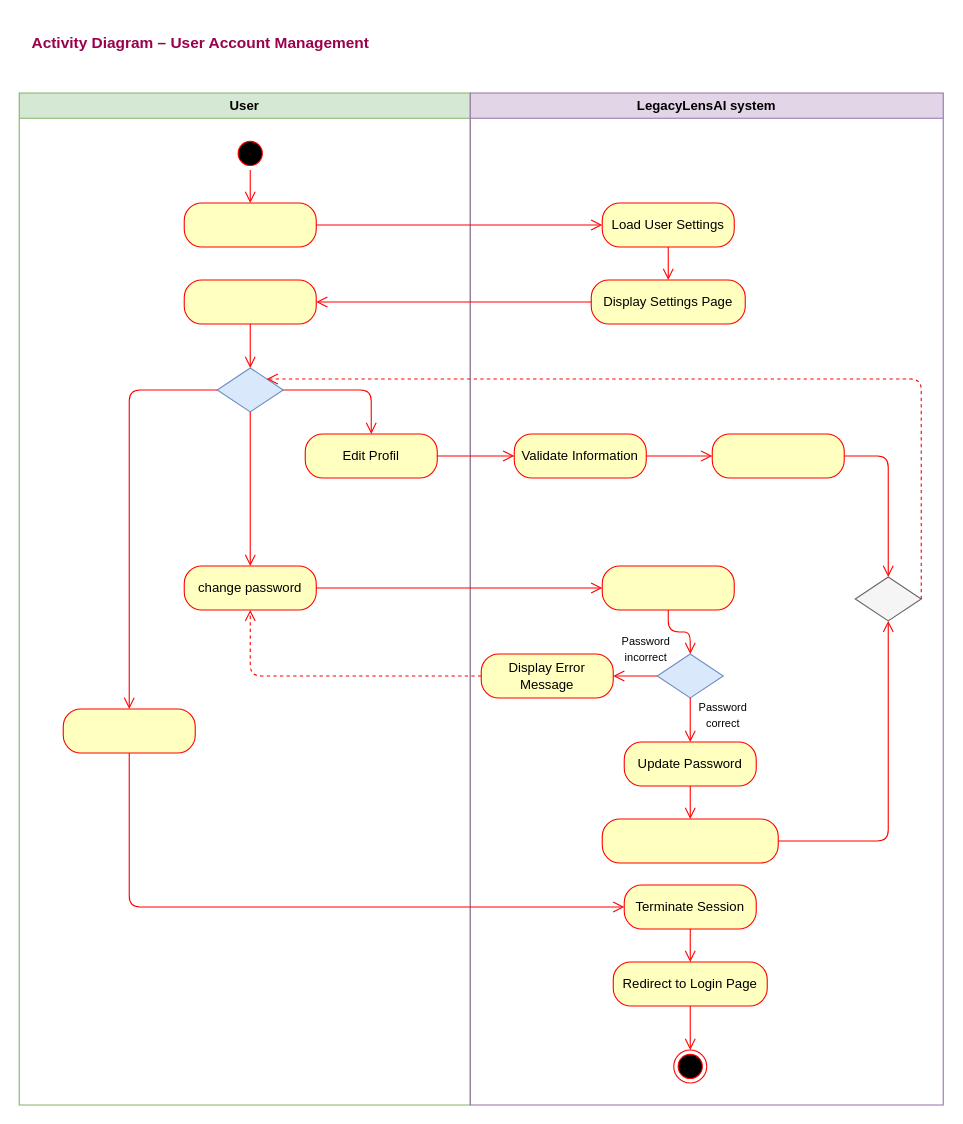
This 963x1124 diagram has some shape labels left out. The shapes that lost their labels are listed below. From the top down, each one's centre as x and y in pixels, then its label:
the point at 249,224: open Settings
the point at 249,301: Choose an Action
the point at 777,455: Update Profile
the point at 667,587: Validate Current Password
the point at 128,730: Logout
the point at 689,840: Display Success Message
